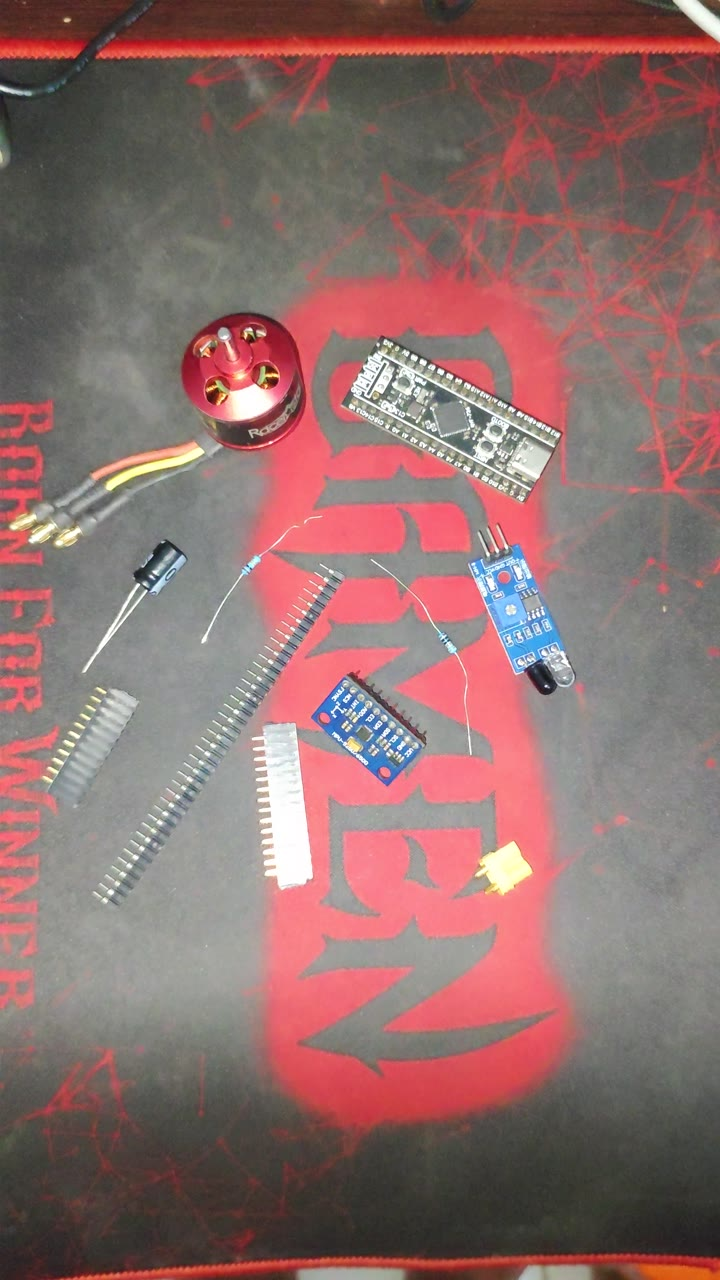bldc_motor: (81, 303, 314, 484)
elco_capacitor: (132, 537, 178, 592)
ir_sensor: (463, 538, 574, 680)
mpu6500: (305, 637, 451, 761)
pin_header: (104, 721, 249, 860), (242, 686, 311, 858), (55, 644, 108, 790)
resistor: (208, 497, 303, 580), (404, 560, 475, 649)
stm32f4: (354, 336, 569, 458)
xt30_female: (481, 785, 563, 867)
